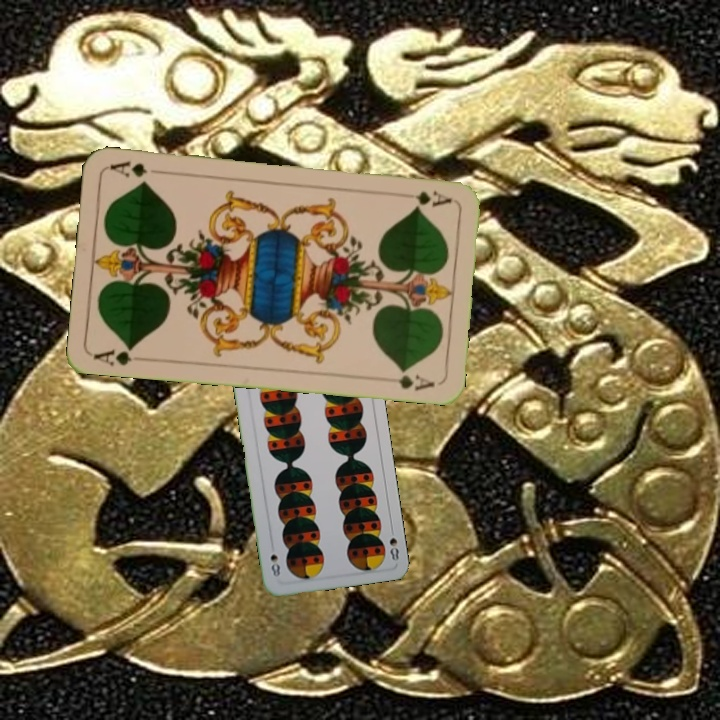GA: (90, 342, 137, 368), (411, 186, 454, 209)
S8: (385, 523, 401, 564)
